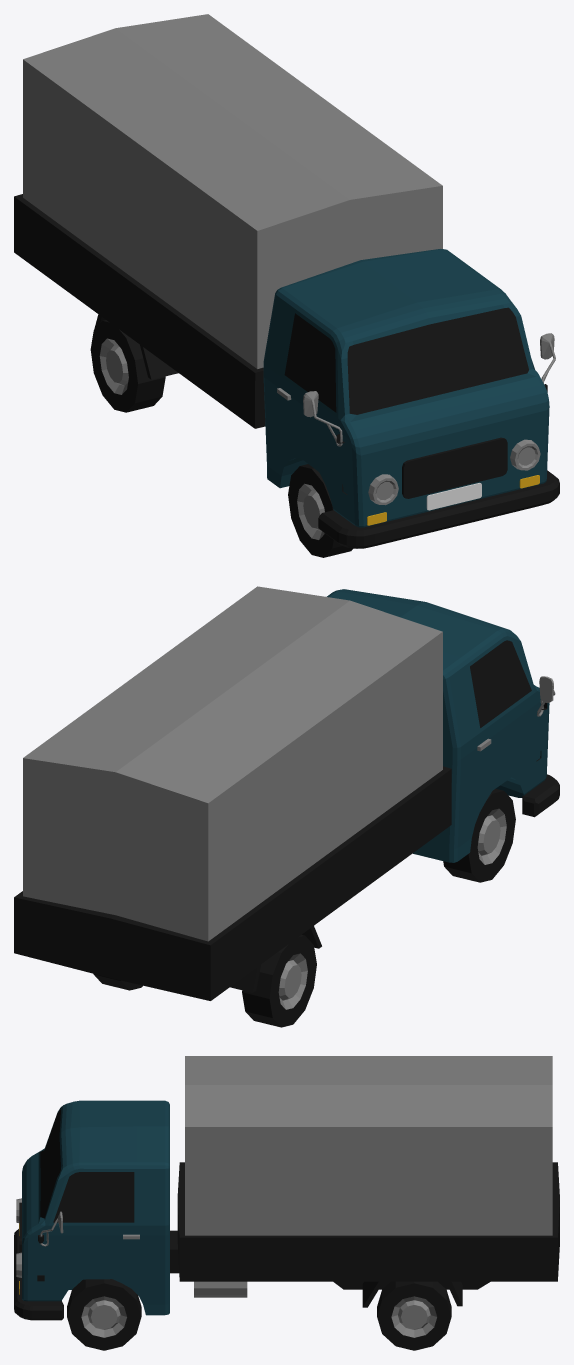
Rendered from Tam75.fbx.
3 renders of one model, top to bottom at view 1: azimuth 30°, elevation 25°; view 2: azimuth 150°, elevation 25°; view 3: azimuth 270°, elevation 25°, orthographic. The views are drawn at different scales.
Visible parts, largest first — view 1: Cube.013, Cube, Cube.005, Cylinder.007, Cube.001, Cylinder.003, Cube.002, Cylinder.001, Cylinder.002, Cube.012; view 2: Cube.013, Cube, Cylinder.007, Cylinder.003, Cube.005, Cube.012; view 3: Cube.013, Cube, Cylinder, Cylinder.006, Cube.012, Cube.005, Cylinder.008.
Boxes of the visible parts, x1,y1,x2,y2 form: Cube.013: [14, 14, 442, 428]; Cube: [263, 249, 549, 527]; Cube.005: [318, 470, 559, 548]; Cylinder.007: [90, 320, 165, 412]; Cube.001: [402, 437, 507, 498]; Cylinder.003: [288, 464, 353, 557]; Cube.002: [426, 483, 481, 510]; Cylinder.001: [510, 439, 540, 470]; Cylinder.002: [368, 474, 398, 505]; Cube.012: [94, 314, 178, 379]; Cube.013: [14, 586, 451, 1000]; Cube: [326, 589, 549, 862]; Cylinder.007: [242, 935, 316, 1027]; Cylinder.003: [443, 788, 515, 882]; Cube.005: [522, 774, 559, 817]; Cube.012: [230, 926, 321, 992]; Cube.013: [177, 1056, 559, 1281]; Cube: [22, 1100, 169, 1315]; Cylinder: [67, 1279, 141, 1350]; Cylinder.006: [377, 1281, 451, 1350]; Cube.012: [170, 1230, 490, 1307]; Cube.005: [14, 1229, 63, 1320]; Cylinder.008: [194, 1281, 247, 1297].
Size of the model in its own units: 335 by 378 by 807.
